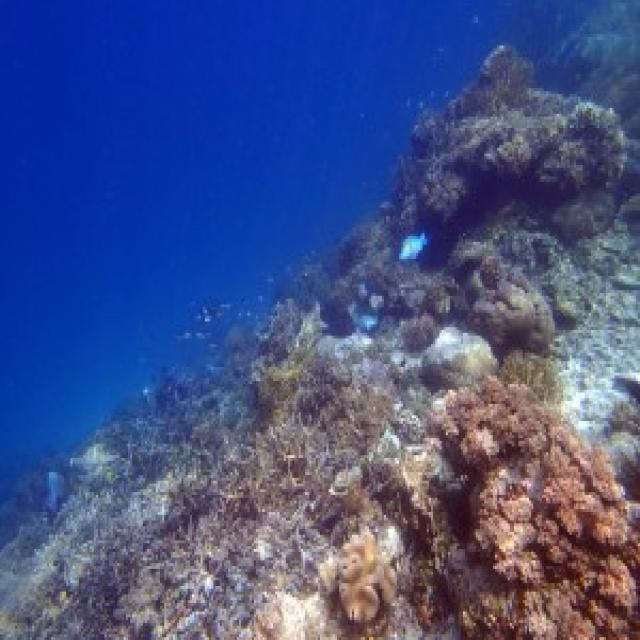Healthy: (430, 376, 639, 635), (391, 49, 626, 251), (253, 345, 391, 499), (321, 223, 440, 334), (342, 428, 447, 553), (451, 229, 556, 348), (330, 527, 396, 624), (421, 328, 496, 388)
